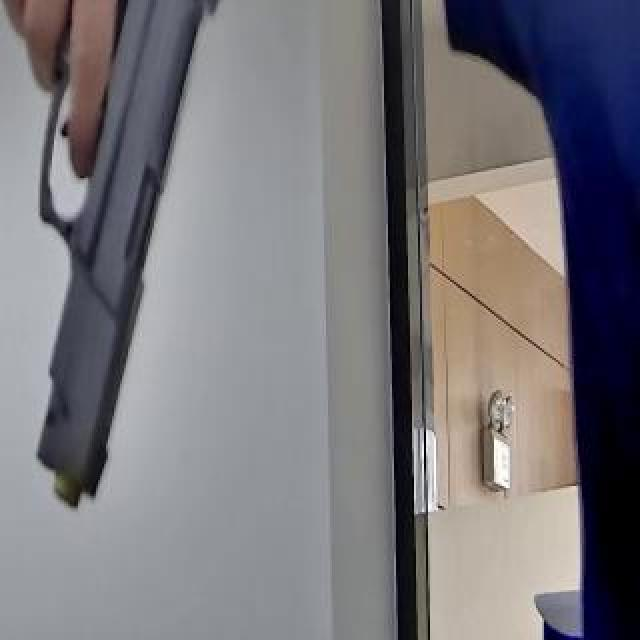Guns: (0, 0, 256, 564)
